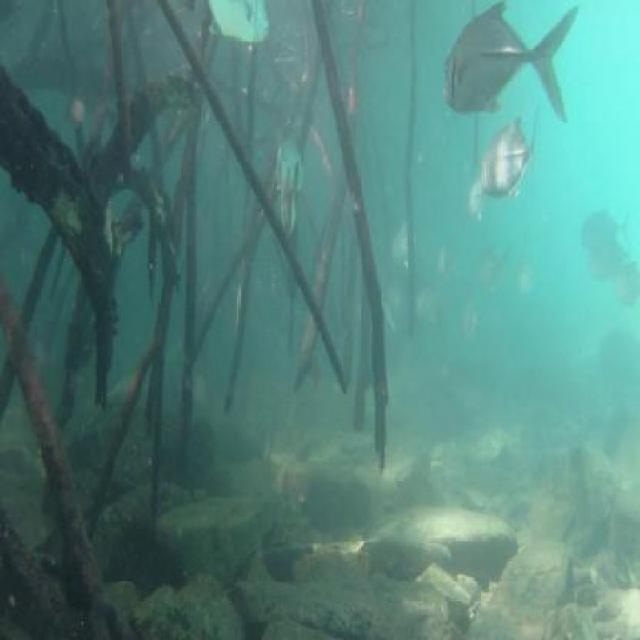Caranx_sexfasciatus_juvenile: (438, 0, 580, 134), (477, 107, 540, 216), (195, 0, 279, 58), (578, 190, 634, 253), (372, 270, 408, 352), (271, 124, 307, 201), (468, 242, 508, 304), (386, 218, 426, 278), (412, 271, 445, 343), (276, 165, 302, 252), (587, 229, 630, 280), (512, 252, 536, 317), (607, 263, 640, 310), (462, 178, 489, 232), (459, 301, 484, 359), (431, 239, 455, 299)
